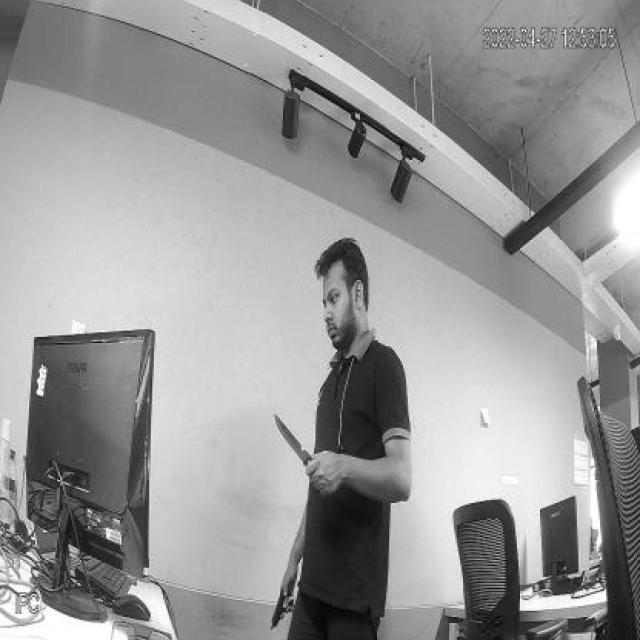weapon: (269, 573, 299, 632)
